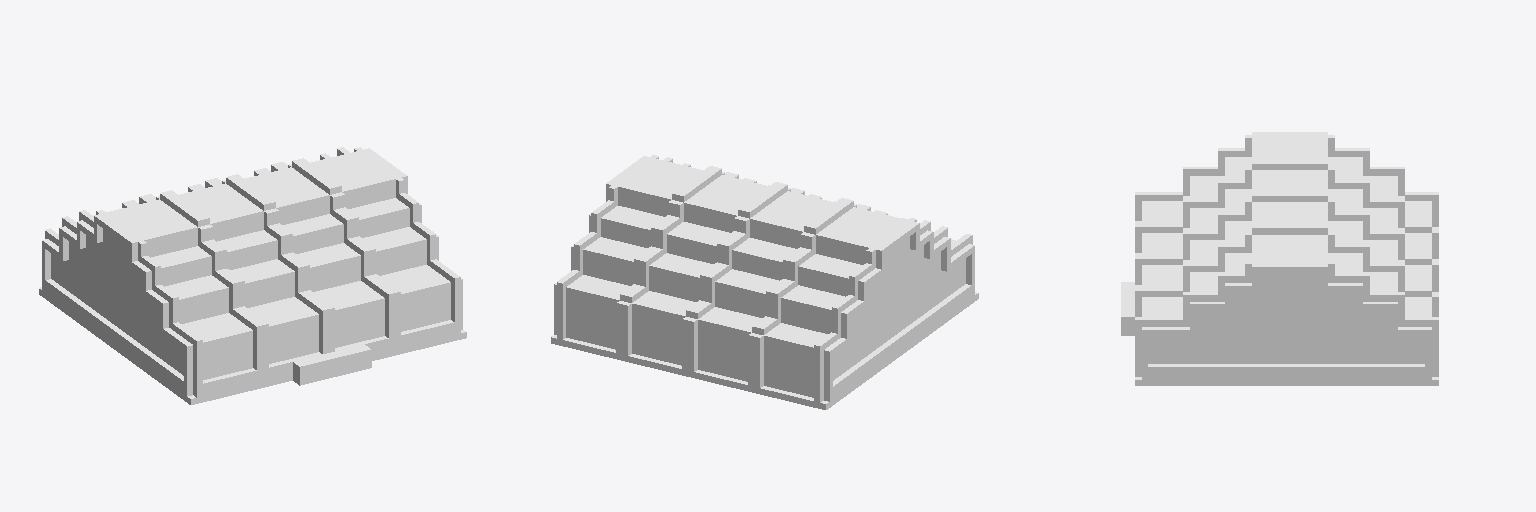
Rendered from Cofre-0.obj.
3 renders of one model, left to right at view 1: azimuth 30°, elevation 25°; view 2: azimuth 150°, elevation 25°; view 3: azimuth 270°, elevation 25°, orthographic.
Parts seen in each view (by area): view 1: object 1; view 2: object 1; view 3: object 1.
Boxes of the visible parts, x1,y1,x2,y2 form: object 1: [39, 147, 466, 404]; object 1: [551, 155, 978, 409]; object 1: [1121, 132, 1438, 385].
Size of the model in its own units: 4.6 by 2 by 4.6.